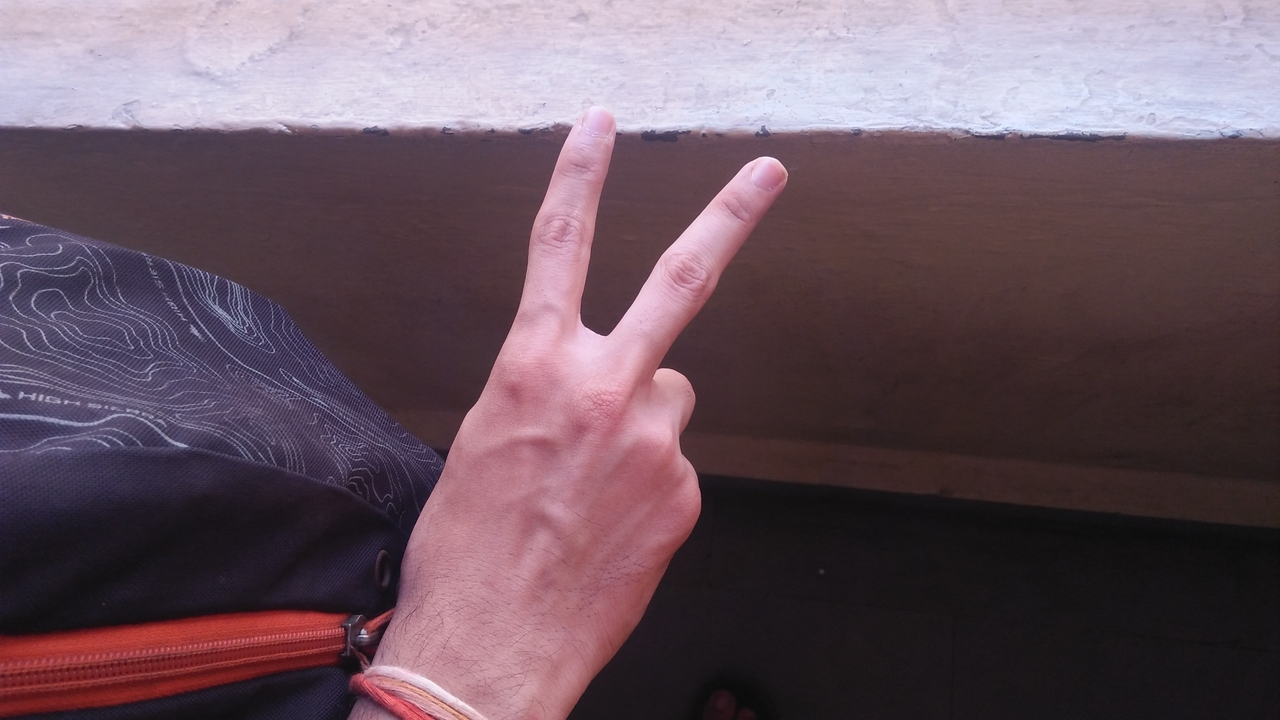fingertip: (736, 148, 798, 200), (566, 102, 620, 148)
